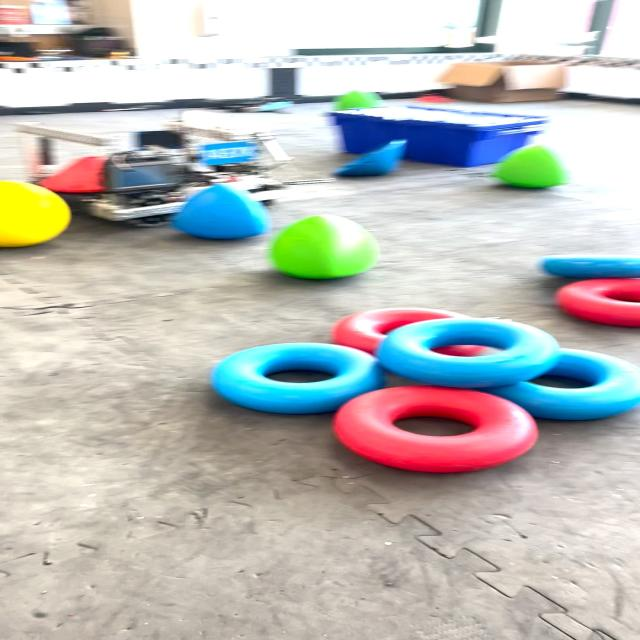Blue-Ring: (376, 318, 560, 388), (211, 342, 384, 414), (478, 349, 640, 420), (538, 255, 640, 278)
Red-Ring: (333, 386, 538, 472), (331, 308, 469, 354), (556, 279, 640, 327), (433, 345, 487, 356)
